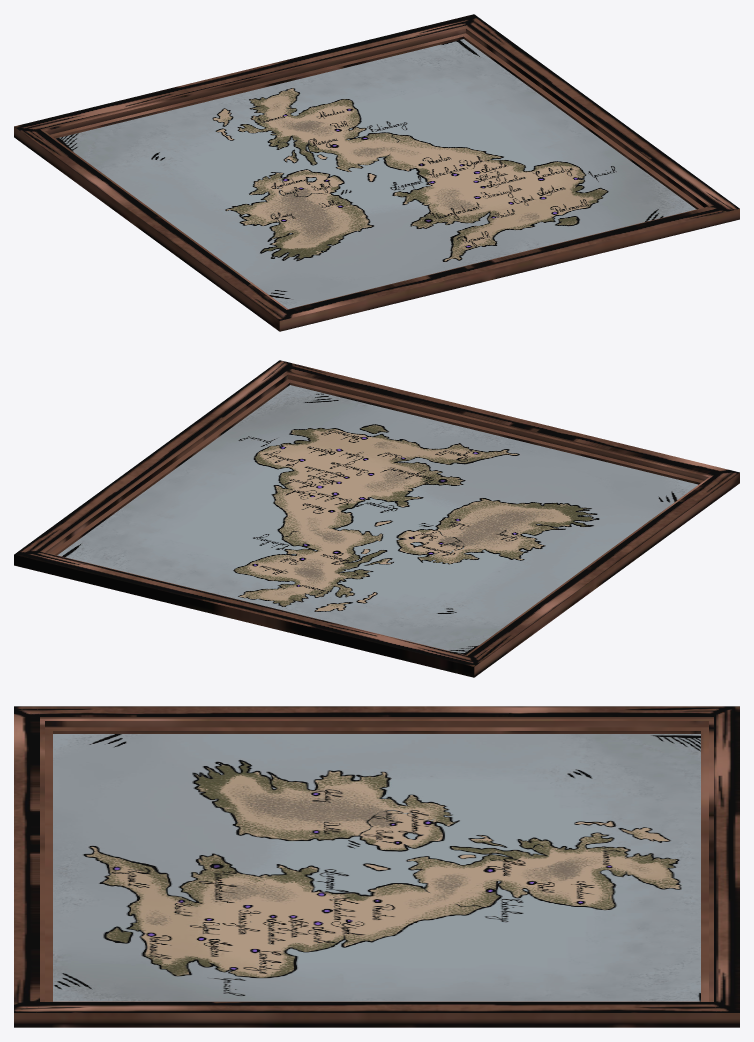
File: mapa_bueno.fbx
The picture shows the model from 3 angles, top to bottom: view 1: azimuth 30°, elevation 25°; view 2: azimuth 150°, elevation 25°; view 3: azimuth 270°, elevation 25°; orthographic projection. The views are drawn at different scales.
Parts seen in each view (by area): view 1: MapaDEtalleMaderaExterior; view 2: MapaDEtalleMaderaExterior; view 3: MapaDEtalleMaderaExterior.
Boxes of the visible parts, x1,y1,x2,y2 form: MapaDEtalleMaderaExterior: (14, 14, 739, 331); MapaDEtalleMaderaExterior: (14, 360, 739, 677); MapaDEtalleMaderaExterior: (14, 706, 739, 1027).
Size of the model in its own units: 100 by 100 by 2.25.
